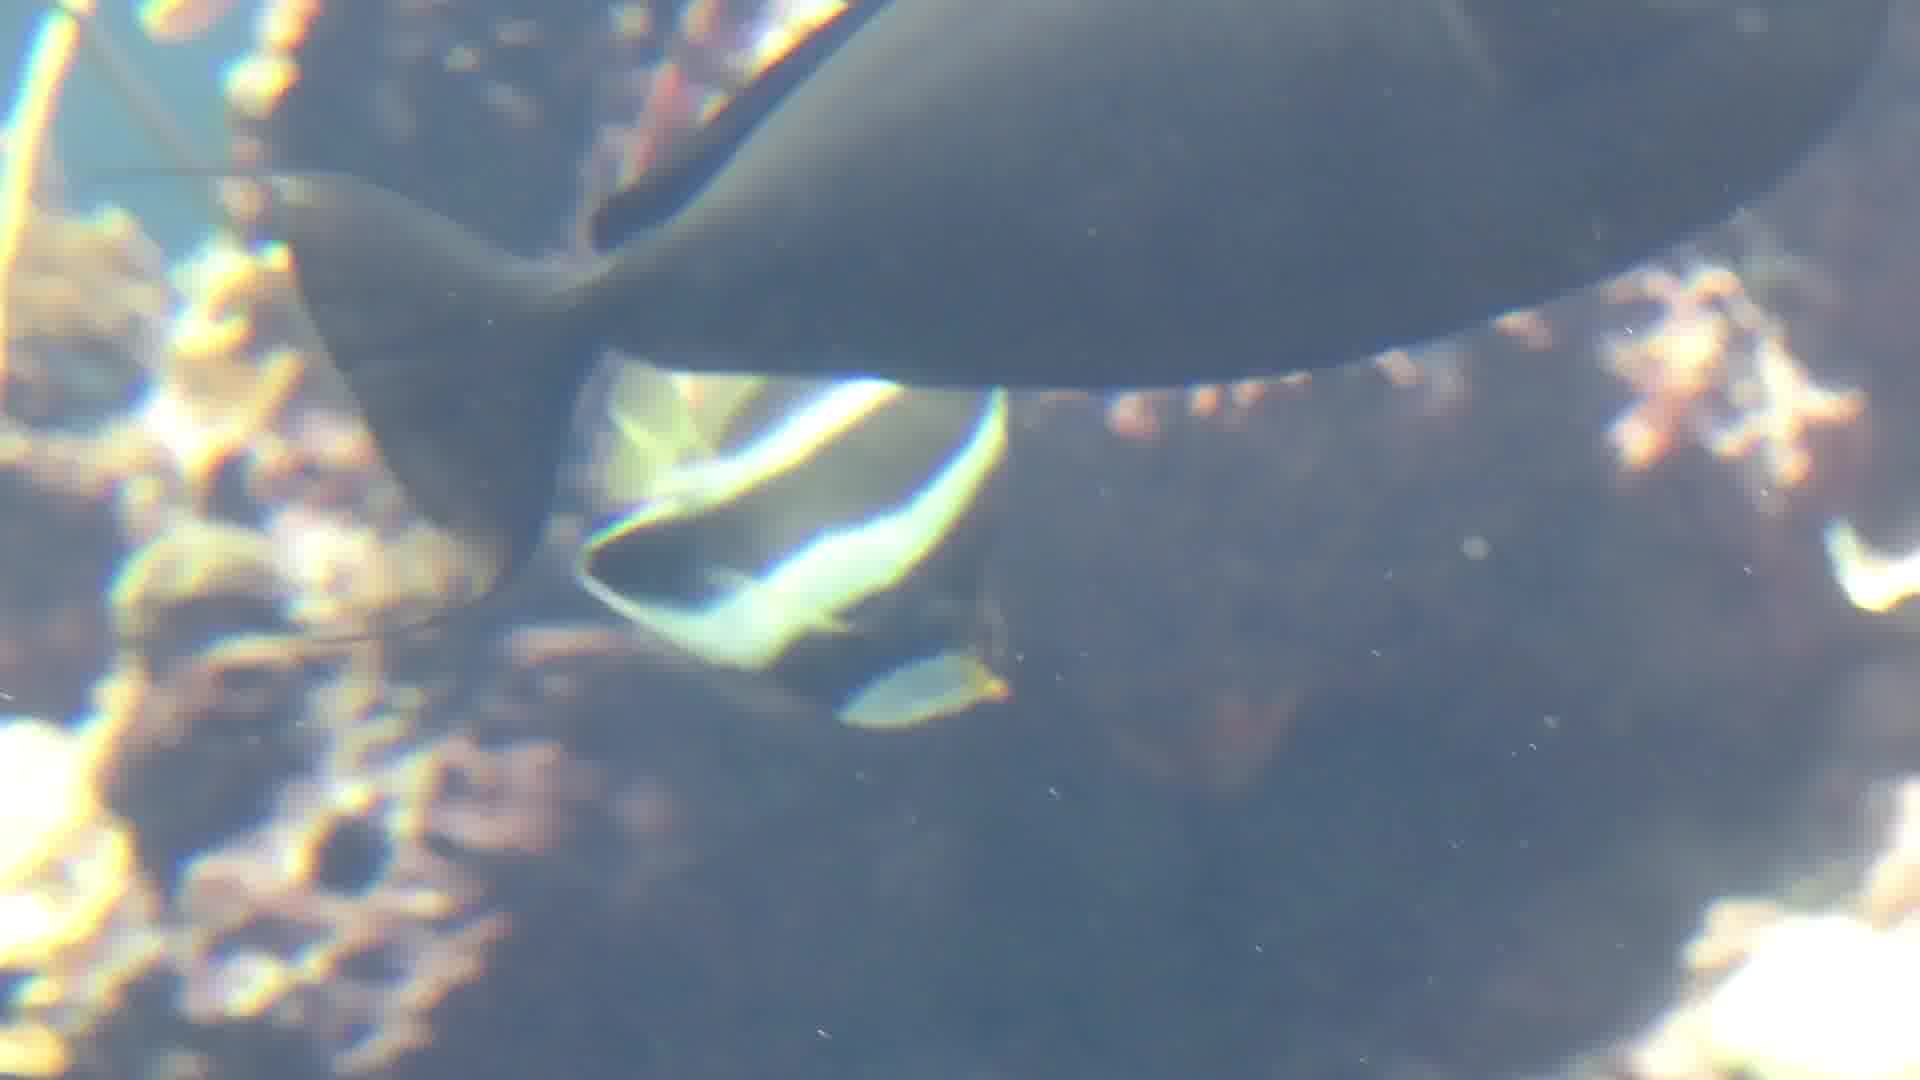Heniochus chrysostomus: (556, 303, 1042, 769)
